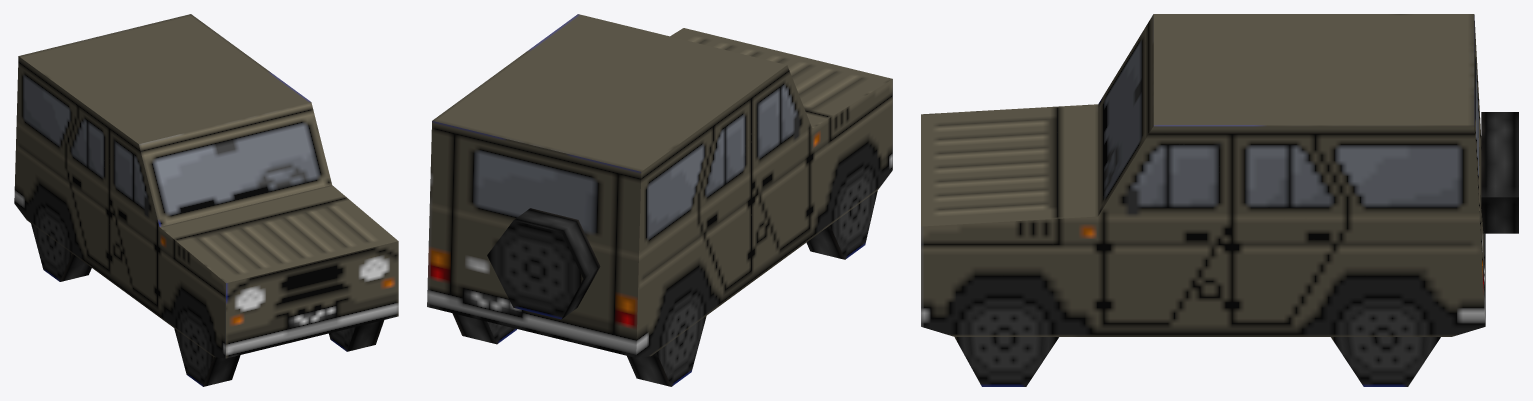
File: bobik.obj
The picture shows the model from 3 angles, left to right: view 1: azimuth 30°, elevation 25°; view 2: azimuth 150°, elevation 25°; view 3: azimuth 270°, elevation 25°; orthographic projection. The views are drawn at different scales.
Visible parts, largest first — view 1: Regroup01; view 2: Regroup01; view 3: Regroup01.
Part boxes in pixels (<box>): Regroup01: <box>14,14,398,386</box>; Regroup01: <box>427,14,892,386</box>; Regroup01: <box>921,14,1518,386</box>.
Size of the model in its own units: 24 by 26 by 54.01.
1 material, 1 textured.
